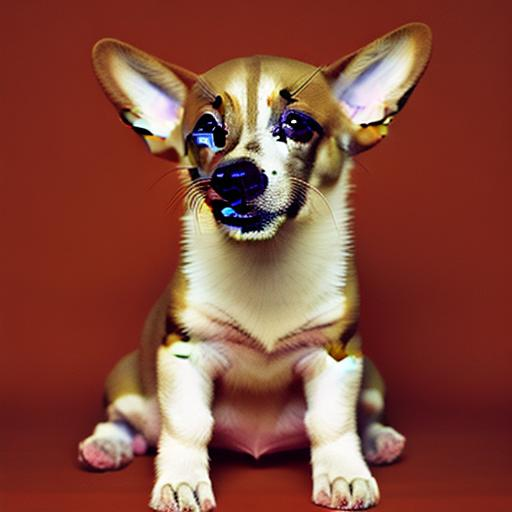eye: (277, 108, 326, 147), (186, 112, 231, 153)
